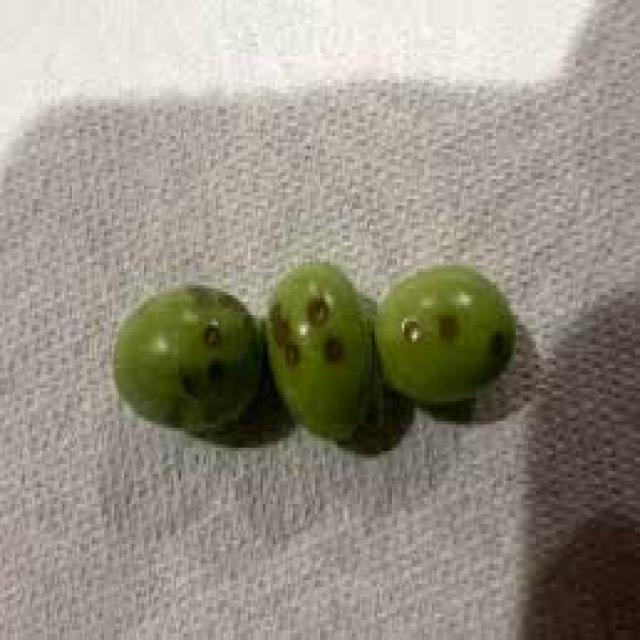Olive Fruit Fly: (114, 285, 258, 431), (268, 265, 380, 441), (375, 265, 513, 401)
